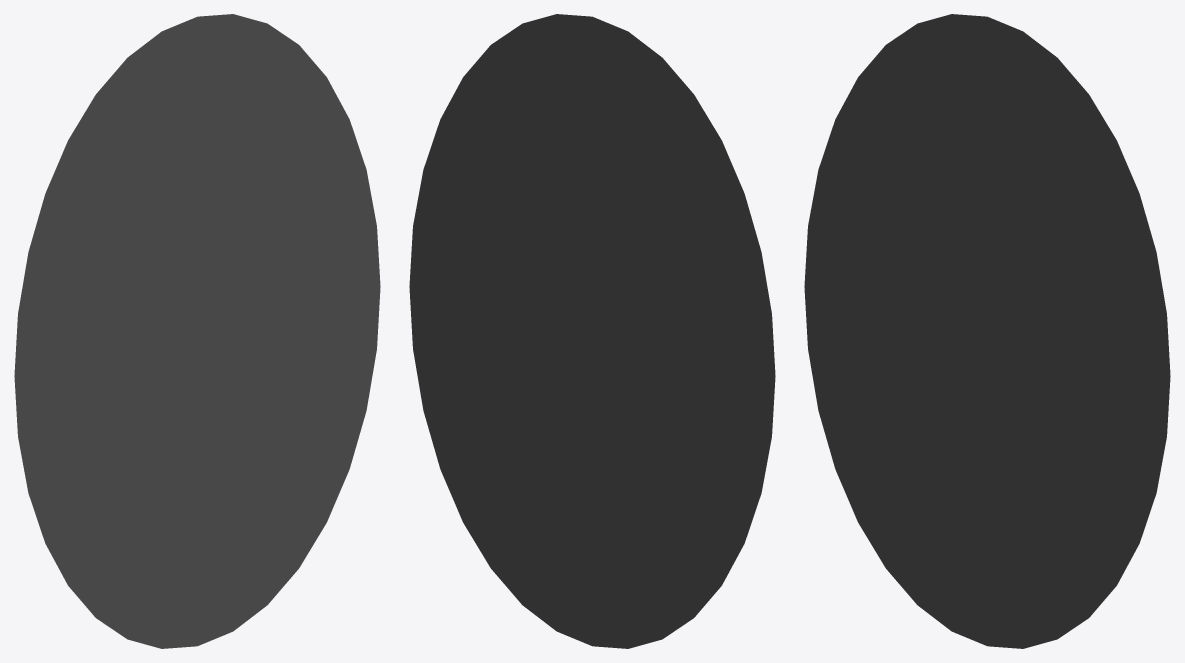
The model's file is portal_inside_mask.gltf.
3 views of the same model, side by side, from view 1: azimuth 30°, elevation 25°; view 2: azimuth 150°, elevation 25°; view 3: azimuth 330°, elevation 25° (orthographic).
Visible parts, largest first — view 1: PortalInsideMask; view 2: PortalInsideMask; view 3: PortalInsideMask.
Boxes of the visible parts, <box> form: PortalInsideMask: <box>14,14,380,648</box>; PortalInsideMask: <box>409,14,775,648</box>; PortalInsideMask: <box>804,14,1170,648</box>.
Size of the model in its own units: 1.03 by 1.69 by 6.89e-08.
1 material, 1 textured.
